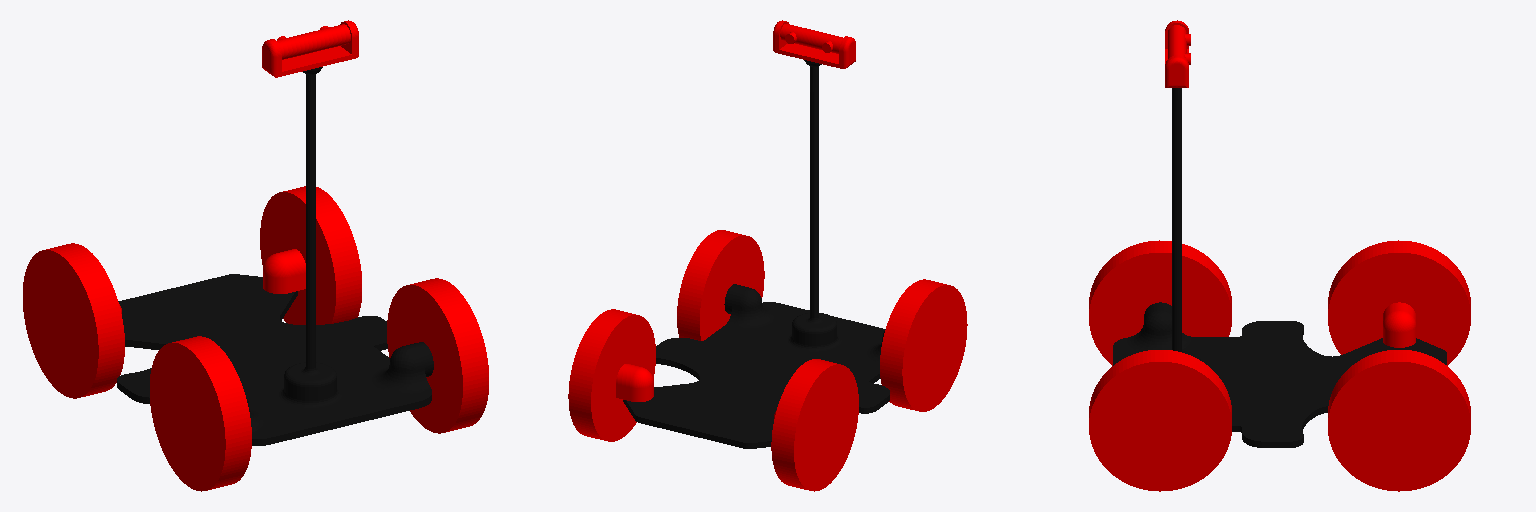
URDF robot description (car):
<?xml version='1.0' encoding='utf-8'?>
<robot name="car">
    <link name="Component1">
        <inertial>
            <origin xyz="-9.108087004562072e-05 -0.06206481002822444 0.015866658048339418" rpy="0.0 0.0 0.0" />
            <mass value="43.04402132146917" />
            <inertia ixx="2.032535395524459" iyy="1.1671544418897748" izz="2.449466202198029" ixy="-0.0007357354608397098" iyz="0.1600366764923818" ixz="-2.1073876108894626e-05" />
        </inertial>
        <visual name="Component1_visual">
            <origin xyz="0.0 0.0 0.0" rpy="0.0 0.0 0.0" />
            <geometry>
                <mesh filename="meshes/Component1.stl" scale="0.001 0.001 0.001" />
            </geometry>
			<material name="Component1_material">
				<color rgba="0.1 0.1 0.1 1.0"/>
			</material>
        </visual>
        <collision name="Component1_collision">
            <origin xyz="0.0 0.0 0.0" rpy="0.0 0.0 0.0" />
            <geometry>
                <mesh filename="meshes/Component1.stl" scale="0.001 0.001 0.001" />
            </geometry>
        </collision>
    </link>
    <link name="Component2">
        <inertial>
            <origin xyz="0.006648908655834127 0.0 0.030957875895638552" rpy="0.0 -0.0 0.0" />
            <mass value="2.2546417341249056" />
            <inertia ixx="0.001511989315091583" iyy="0.0016456839399457968" izz="0.0016285524922488859" ixy="-1.3877787807814457e-17" iyz="0.0" ixz="-5.330278337942369e-05" />
        </inertial>
        <visual name="Component2_visual">
            <origin xyz="-0.2 -0.25 0.0" rpy="0.0 -0.0 0.0" />
            <geometry>
                <mesh filename="meshes/Component2.stl" scale="0.001 0.001 0.001" />
            </geometry>
			<material name="Component2_material">
				<color rgba="1 0 0 1.0"/>
			</material>
        </visual>
        <collision name="Component2_collision">
            <origin xyz="-0.2 -0.25 0.0" rpy="0.0 -0.0 0.0" />
            <geometry>
                <mesh filename="meshes/Component2.stl" scale="0.001 0.001 0.001" />
            </geometry>
        </collision>
    </link>
    <link name="Component3">
        <inertial>
            <origin xyz="-0.006648908655834127 3.552713678800501e-17 0.03095787589563855" rpy="0.0 -0.0 0.0" />
            <mass value="2.254641734124906" />
            <inertia ixx="0.0015119893150915276" iyy="0.0016456839399457968" izz="0.0016285524922488026" ixy="-4.163336342344337e-17" iyz="3.469446951953614e-18" ixz="5.330278337942196e-05" />
        </inertial>
        <visual name="Component3_visual">
            <origin xyz="0.2 -0.25 0.0" rpy="0.0 -0.0 0.0" />
            <geometry>
                <mesh filename="meshes/Component3.stl" scale="0.001 0.001 0.001" />
            </geometry>
			<material name="Component3_material">
				<color rgba="1 0 0 1.0"/>
			</material>
        </visual>
        <collision name="Component3_collision">
            <origin xyz="0.2 -0.25 0.0" rpy="0.0 -0.0 0.0" />
            <geometry>
                <mesh filename="meshes/Component3.stl" scale="0.001 0.001 0.001" />
            </geometry>
        </collision>
    </link>
    <link name="Component4">
        <inertial>
            <origin xyz="4.4408920985006264e-17 -3.552713678800501e-17 0.030000000000000037" rpy="0.0 -0.0 0.0" />
            <mass value="33.29302814641783" />
            <inertia ixx="0.1972611917675291" iyy="0.197261191767518" izz="0.37454656664719543" ixy="-3.3306690738754696e-16" iyz="-8.881784197001252e-16" ixz="2.220446049250313e-16" />
        </inertial>
        <visual name="Component4_visual">
            <origin xyz="-0.035 -0.25 -0.24" rpy="-3.141592653589793 -1.5707963267948966 0" />
            <geometry>
                <mesh filename="meshes/Component4.stl" scale="0.001 0.001 0.001" />
            </geometry>
            <material name="Component4_material">
				<color rgba="1 0 0 1.0"/>
			</material>
        </visual>
        <collision name="Component4_collision">
            <origin xyz="-0.035 -0.25 -0.24" rpy="-3.141592653589793 -1.5707963267948966 0" />
            <geometry>
                <mesh filename="meshes/Component4.stl" scale="0.001 0.001 0.001" />
            </geometry>
            <material name="Component5_material">
				<color rgba="1 0 0 1.0"/>
			</material>
        </collision>
    </link>
    <link name="Component5">
        <inertial>
            <origin xyz="4.4408920985006264e-17 3.552713678800501e-17 0.030000000000000037" rpy="0.0 -0.0 0.0" />
            <mass value="33.29302814641783" />
            <inertia ixx="0.1972611917675282" iyy="0.19726119176751755" izz="0.37454656664719543" ixy="3.3306690738754696e-16" iyz="4.440892098500626e-16" ixz="1.6653345369377348e-16" />
        </inertial>
        <visual name="Component5_visual">
            <origin xyz="-0.035 0.25 -0.24" rpy="-0.0 1.5707963267948966 0" />
            <geometry>
                <mesh filename="meshes/Component5.stl" scale="0.001 0.001 0.001" />
            </geometry>
            <material name="Component5_material">
				<color rgba="1 0 0 1.0"/>
			</material>
        </visual>
        <collision name="Component5_collision">
            <origin xyz="-0.035 0.25 -0.24" rpy="-0.0 1.5707963267948966 0" />
            <geometry>
                <mesh filename="meshes/Component5.stl" scale="0.001 0.001 0.001" />
            </geometry>
        </collision>
    </link>
    <link name="Component6">
        <inertial>
            <origin xyz="4.4408920985006264e-17 0.0 0.03" rpy="0.0 -0.0 0.0" />
            <mass value="33.29302814641783" />
            <inertia ixx="0.1972611917675291" iyy="0.1972611917675171" izz="0.3745465666471972" ixy="-3.3306690738754696e-16" iyz="4.440892098500626e-16" ixz="2.220446049250313e-16" />
        </inertial>
        <visual name="Component6_visual">
            <origin xyz="-0.035 0.45 -0.24" rpy="-3.141592653589793 -1.5707963267948966 0" />
            <geometry>
                <mesh filename="meshes/Component6.stl" scale="0.001 0.001 0.001" />
            </geometry>
            <material name="Component6_material">
				<color rgba="1 0 0 1.0"/>
			</material>
        </visual>
        <collision name="Component6_collision">
            <origin xyz="-0.035 0.45 -0.24" rpy="-3.141592653589793 -1.5707963267948966 0" />
            <geometry>
                <mesh filename="meshes/Component6.stl" scale="0.001 0.001 0.001" />
            </geometry>
        </collision>
    </link>
    <link name="Component7">
        <inertial>
            <origin xyz="4.4408920985006264e-17 0.0 0.03" rpy="0.0 -0.0 0.0" />
            <mass value="33.29302814641783" />
            <inertia ixx="0.19726119176753176" iyy="0.19726119176751755" izz="0.37454656664719765" ixy="4.440892098500626e-16" iyz="-8.881784197001252e-16" ixz="5.551115123125783e-17" />
        </inertial>
        <visual name="Component7_visual">
            <origin xyz="-0.035 -0.5 -0.24" rpy="-0.0 1.5707963267948966 0" />
            <geometry>
                <mesh filename="meshes/Component7.stl" scale="0.001 0.001 0.001" />
            </geometry>
            <material name="Component7_material">
				<color rgba="1 0 0 1.0"/>
			</material>
        </visual>
        <collision name="Component7_collision">
            <origin xyz="-0.035 -0.5 -0.24" rpy="-0.0 1.5707963267948966 0" />
            <geometry>
                <mesh filename="meshes/Component7.stl" scale="0.001 0.001 0.001" />
            </geometry>
        </collision>
    </link>
    <link name="Component8">
        <inertial>
            <origin xyz="1.1336105737455729e-17 4.506065707232665e-09 0.02161422014097525" rpy="0.0 -0.0 0.0" />
            <mass value="1.5745119122627114" />
            <inertia ixx="0.0009236231804257145" iyy="0.009563145077167823" izz="0.009243472257382132" ixy="4.010823241452763e-18" iyz="0.0" ixz="-1.1037464837257504e-17" />
        </inertial>
        <visual name="Component8_visual">
            <origin xyz="0.0 0.21528934 -0.72" rpy="0.0 -0.0 0.0" />
            <geometry>
                <mesh filename="meshes/Component8.stl" scale="0.001 0.001 0.001" />
            </geometry>
            <material name="Component8_material">
				<color rgba="1 0 0 1.0"/>
			</material>
        </visual>
        <collision name="Component8_collision">
            <origin xyz="0.0 0.21528934 -0.72" rpy="0.0 -0.0 0.0" />
            <geometry>
                <mesh filename="meshes/Component8.stl" scale="0.001 0.001 0.001" />
            </geometry>
        </collision>
    </link>
    <link name="Component9">
        <inertial>
            <origin xyz="4.453154086050404e-05 0.0012484487879491724 4.292369685469705e-17" rpy="0.0 -0.0 0.0" />
            <mass value="1.663308133287271" />
            <inertia ixx="0.003778578537065286" iyy="0.003733218112050962" izz="0.00036843624953286636" ixy="-1.635188932702647e-06" iyz="-3.501290812115248e-18" ixz="3.1793442372295885e-21" />
        </inertial>
        <visual name="Component9_visual">
            <origin xyz="-0.765 0.21528934 0.0" rpy="-0.0 1.5707963267948966 0" />
            <geometry>
                <mesh filename="meshes/Component9.stl" scale="0.001 0.001 0.001" />
            </geometry>
            <material name="Component9_material">
				<color rgba="1 0 0 1.0"/>
			</material>
        </visual>
        <collision name="Component9_collision">
            <origin xyz="-0.765 0.21528934 0.0" rpy="-0.0 1.5707963267948966 0" />
            <geometry>
                <mesh filename="meshes/Component9.stl" scale="0.001 0.001 0.001" />
            </geometry>
        </collision>
    </link>
    <joint name="Component3_motor_tl" type="continuous">
        <origin xyz="-0.04 0.0 0.035" rpy="-0.0 -1.5707963267948966 0" />
        <parent link="Component3" />
        <child link="Component7" />
        <axis xyz="0.0 0.0 1.0" />
    </joint>
    <joint name="Component2_motor_tr" type="continuous">
        <origin xyz="0.04 0.0 0.035" rpy="-3.141592653589793 -1.5707963267948966 0" />
        <parent link="Component2" />
        <child link="Component6" />
        <axis xyz="0.0 0.0 1.0" />
    </joint>
    <joint name="Component1_motor_r" type="continuous">
        <origin xyz="0.24 -0.25 0.035" rpy="-3.141592653589793 -1.5707963267948966 0" />
        <parent link="Component1" />
        <child link="Component4" />
        <axis xyz="0.0 0.0 1.0" />
    </joint>
    <joint name="Component1_motor_l" type="continuous">
        <origin xyz="-0.24 -0.25 0.035" rpy="-0.0 -1.5707963267948966 0" />
        <parent link="Component1" />
        <child link="Component5" />
        <axis xyz="0.0 0.0 1.0" />
    </joint>
    <joint name="Component1_turn_l" type="revolute">
        <origin xyz="-0.2 0.25 0.0" rpy="0.0 -0.0 0.0" />
        <parent link="Component1" />
        <child link="Component3" />
        <axis xyz="0.0 0.0 1.0" />
        <limit lower="-0.785398" upper="0.785398" effort="1000000" velocity="1000000" />
    </joint>
    <joint name="Component1_turn_r" type="revolute">
        <origin xyz="0.2 0.25 0.0" rpy="0.0 -0.0 0.0" />
        <parent link="Component1" />
        <child link="Component2" />
        <axis xyz="0.0 0.0 1.0" />
        <limit lower="-0.785398" upper="0.785398" effort="1000000" velocity="1000000" />
    </joint>
    <joint name="Component8_eye" type="revolute">
        <origin xyz="0.0 0.0 0.045" rpy="-0.0 -1.5707963267948966 0" />
        <parent link="Component8" />
        <child link="Component9" />
        <axis xyz="0.0 0.0 1.0" />
        <limit lower="-0.523599" upper="0.523599" effort="1000000" velocity="1000000" />
    </joint>
    <joint name="Component1_head" type="continuous">
        <origin xyz="0.0 -0.21528934 0.72" rpy="0.0 -0.0 0.0" />
        <parent link="Component1" />
        <child link="Component8" />
        <axis xyz="0.0 0.0 1.0" />
    </joint>
</robot>

--- What the picture shows (computed from the rendered views, not written in the file) ---
The picture shows the robot from 3 angles, left to right: view 1: azimuth 30°, elevation 25°; view 2: azimuth 150°, elevation 25°; view 3: azimuth 270°, elevation 25°; orthographic projection.
Model car with 9 links and 8 joints (3 revolute, 5 continuous), rooted at Component1, posed all joints at 0.
Visible links, largest first — view 1: Component1, Component5, Component7, Component4, Component6, Component8, Component2, Component9; view 2: Component1, Component7, Component5, Component6, Component4, Component8, Component2, Component9; view 3: Component1, Component6, Component4, Component7, Component5, Component3, Component8, Component9.
Boxes of the visible links, <box> form: Component1: <box>117,67,433,445</box>; Component5: <box>150,336,251,491</box>; Component7: <box>23,243,124,398</box>; Component4: <box>387,278,488,433</box>; Component6: <box>260,186,361,324</box>; Component8: <box>262,20,358,77</box>; Component2: <box>263,249,305,293</box>; Component9: <box>277,24,350,59</box>; Component1: <box>623,60,889,448</box>; Component7: <box>771,359,858,491</box>; Component5: <box>880,279,967,411</box>; Component6: <box>568,309,655,441</box>; Component4: <box>677,230,764,340</box>; Component8: <box>773,20,855,68</box>; Component2: <box>616,364,653,401</box>; Component9: <box>780,24,842,53</box>; Component1: <box>1113,88,1446,447</box>; Component6: <box>1328,350,1470,491</box>; Component4: <box>1089,350,1231,491</box>; Component7: <box>1328,240,1470,365</box>; Component5: <box>1089,240,1231,365</box>; Component3: <box>1383,302,1415,347</box>; Component8: <box>1165,20,1188,87</box>; Component9: <box>1168,25,1190,64</box>.
Bounding box of the posed robot: 0.6 × 0.7999 × 0.905 m (x, y, z).
Meshes: 9 distinct files referenced, 9 mesh visuals loaded (9 binary STL).
